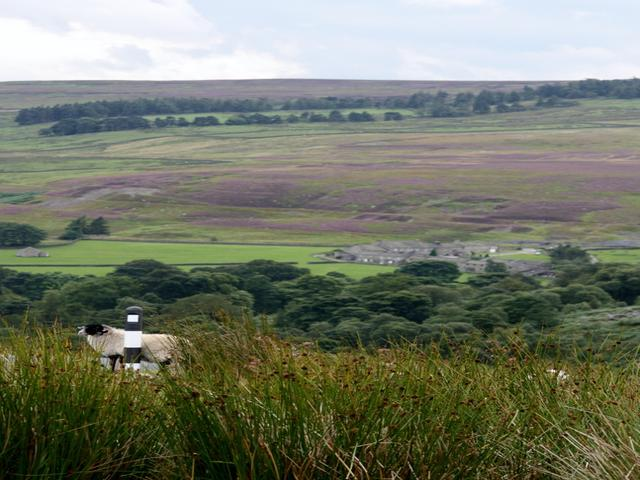sheep: (54, 308, 220, 383)
